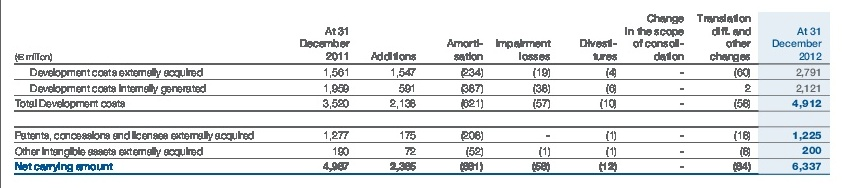table: (0, 0, 842, 188)
